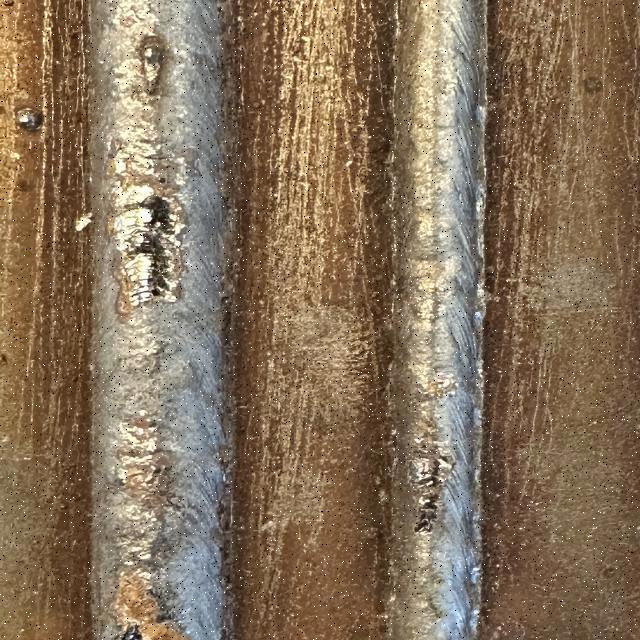Spatters: (15, 108, 43, 131), (75, 212, 92, 231), (122, 625, 142, 639), (2, 0, 15, 8), (0, 354, 8, 364), (371, 292, 377, 298)
